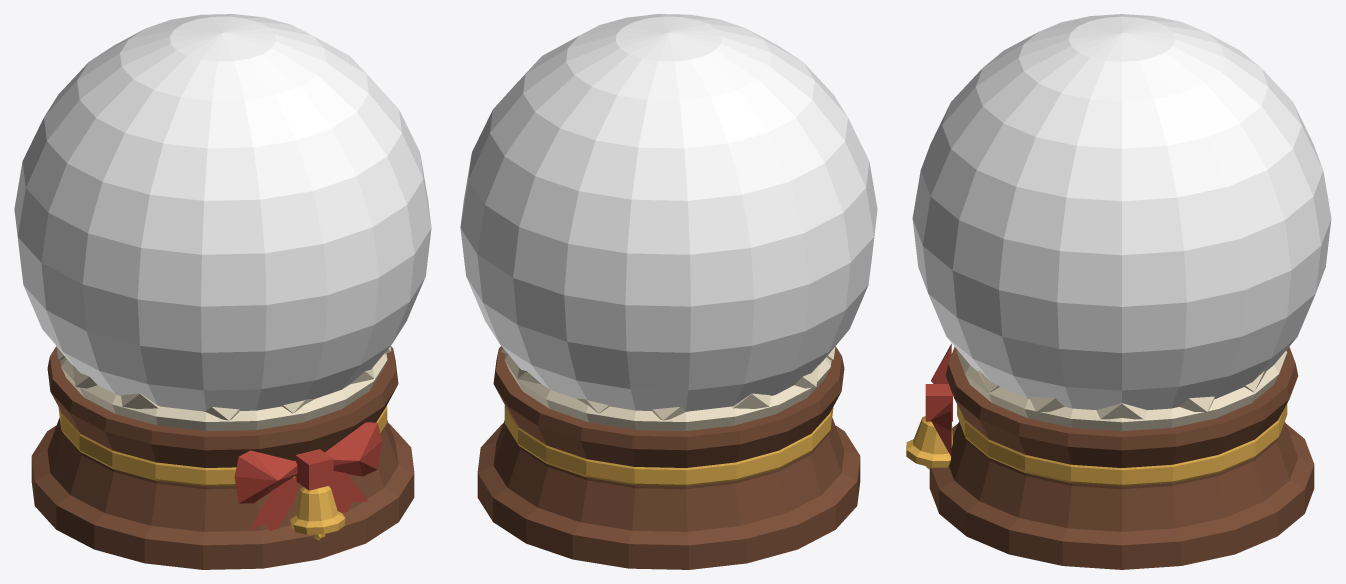
Rendered from 11 Snow Globe.glb.
3 renders of one model, left to right at view 1: azimuth 30°, elevation 25°; view 2: azimuth 150°, elevation 25°; view 3: azimuth 270°, elevation 25°, orthographic.
Parts seen in each view (by area): view 1: Faceted crystal globe, Carved walnut pedestal, Snow bed, Gold band.001, Sculpted ribbon loop, Sculpted ribbon loop.001, Hollow bell, Bow center knot, Swallowtail ribbon, Swallowtail ribbon.001; view 2: Faceted crystal globe, Carved walnut pedestal, Gold band.001, Snow bed; view 3: Faceted crystal globe, Carved walnut pedestal, Gold band.001, Snow bed, Hollow bell, Bow center knot, Faceted snow drift.001, Sculpted ribbon loop.001.
Part boxes in pixels (<box>): Faceted crystal globe: <box>14,14,431,411</box>; Carved walnut pedestal: <box>31,346,414,569</box>; Snow bed: <box>60,353,387,430</box>; Gold band.001: <box>58,406,387,486</box>; Sculpted ribbon loop: <box>234,450,297,503</box>; Sculpted ribbon loop.001: <box>325,422,381,476</box>; Hollow bell: <box>290,486,345,534</box>; Bow center knot: <box>295,449,333,490</box>; Swallowtail ribbon: <box>249,477,297,531</box>; Swallowtail ribbon.001: <box>329,471,368,512</box>; Faceted crystal globe: <box>460,14,877,411</box>; Carved walnut pedestal: <box>477,346,860,569</box>; Gold band.001: <box>504,406,833,486</box>; Snow bed: <box>504,353,831,430</box>; Faceted crystal globe: <box>912,14,1331,410</box>; Carved walnut pedestal: <box>929,347,1314,569</box>; Gold band.001: <box>957,404,1287,486</box>; Snow bed: <box>957,350,1286,431</box>; Hollow bell: <box>906,416,952,467</box>; Bow center knot: <box>925,384,952,421</box>; Faceted snow drift.001: <box>1096,403,1147,419</box>; Sculpted ribbon loop.001: <box>931,402,951,456</box>.
Size of what is drawn, in the model's own units: 3.4 by 4.08 by 3.45.
